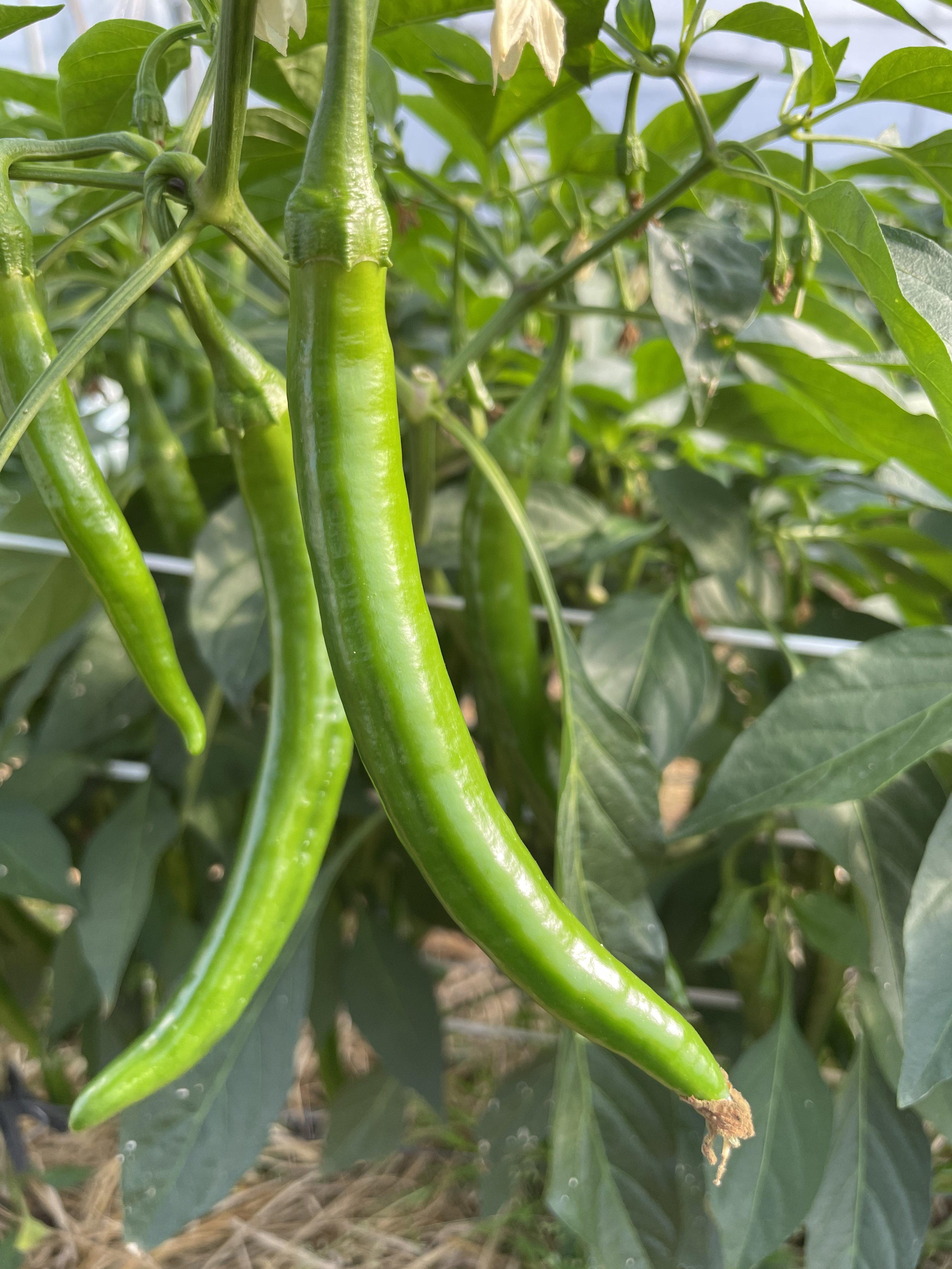Buah Cabai Sehat: (274, 162, 778, 1128), (69, 344, 360, 1139), (0, 158, 211, 767)
